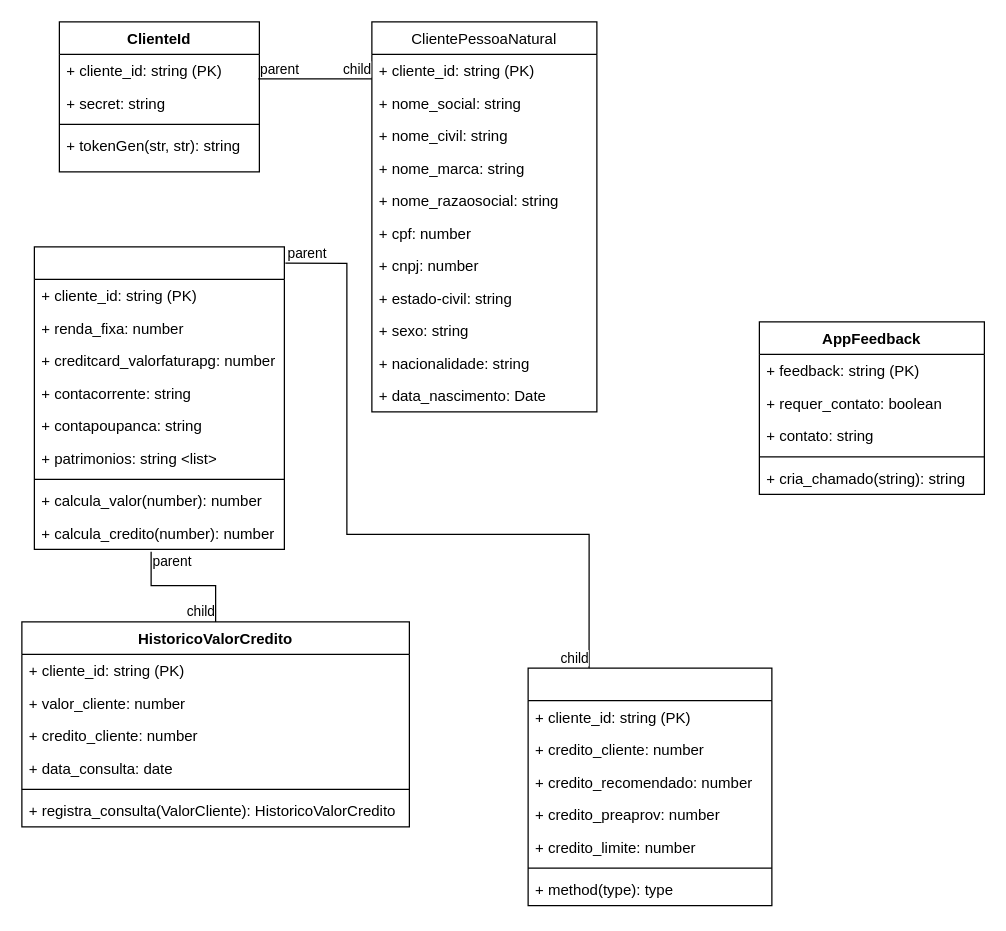
This 1006x931 diagram has some shape labels left out. Each missing label, with the box of its shape:
PropostaCredito: (527, 667, 772, 906)
ValorCliente: (33, 246, 284, 549)
